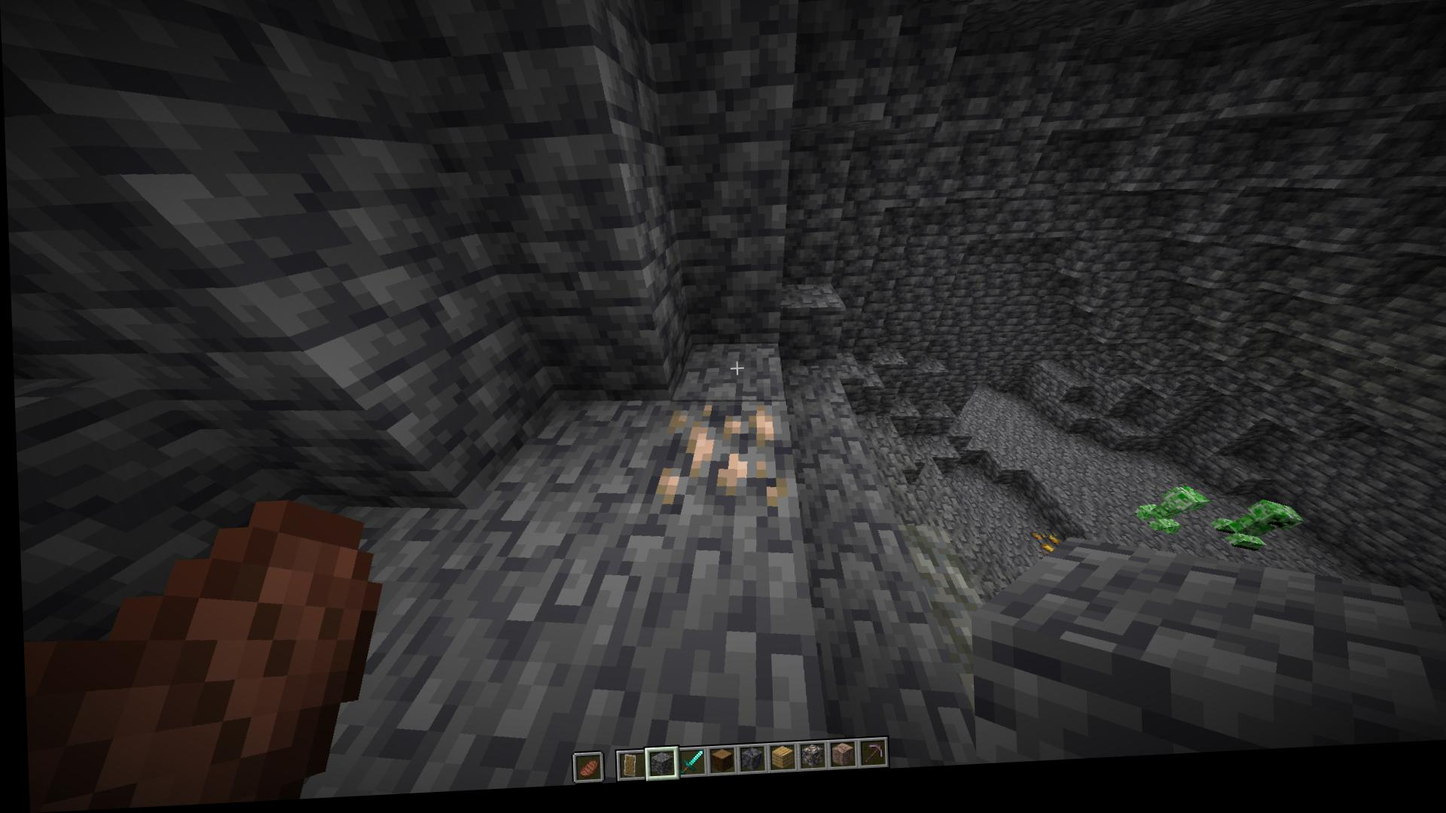gold ore: (1031, 544, 1059, 561)
iron ore: (641, 405, 786, 525)
